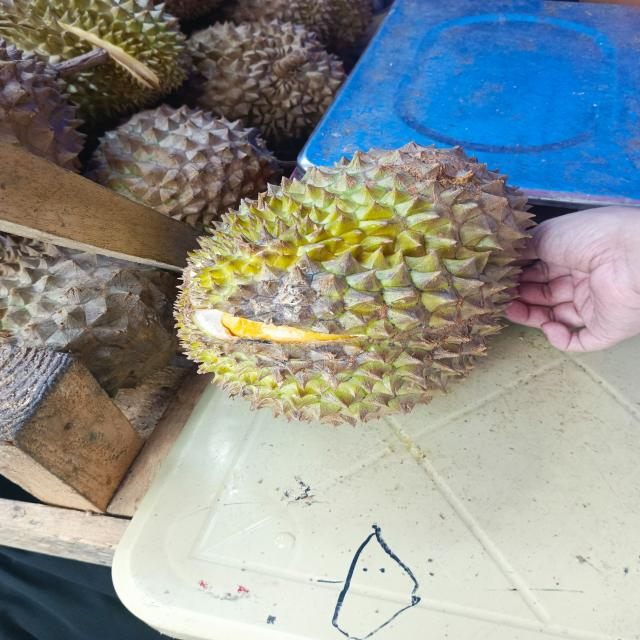defective: (156, 131, 552, 428), (0, 0, 190, 123)
mature: (1, 237, 184, 378), (88, 106, 281, 220), (193, 17, 344, 144), (1, 44, 91, 176), (210, 0, 287, 33)
